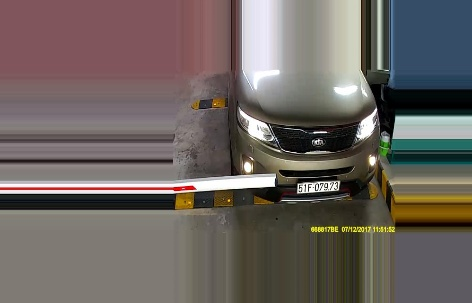plate: (296, 180, 340, 195)
